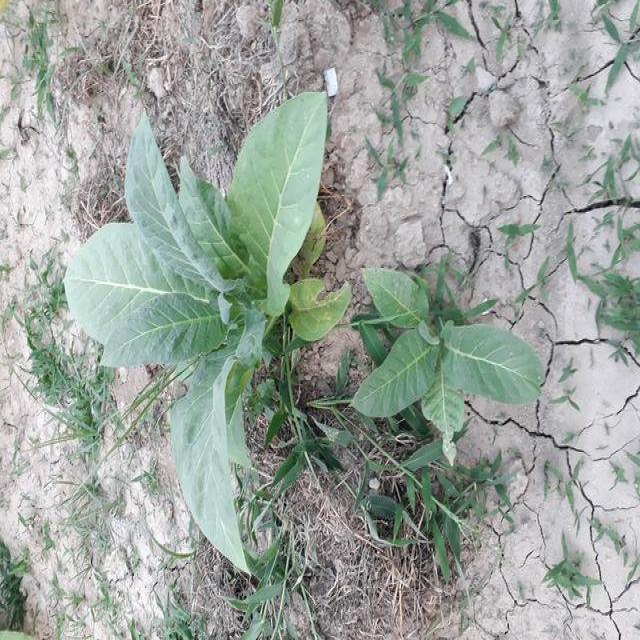crop: (53, 64, 344, 567)
